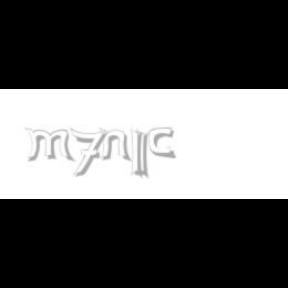7: (70, 128, 108, 178)
I: (136, 128, 150, 180)
c: (148, 128, 178, 160)
l: (130, 128, 146, 180)
m: (24, 128, 76, 162)
n: (98, 128, 132, 162)
